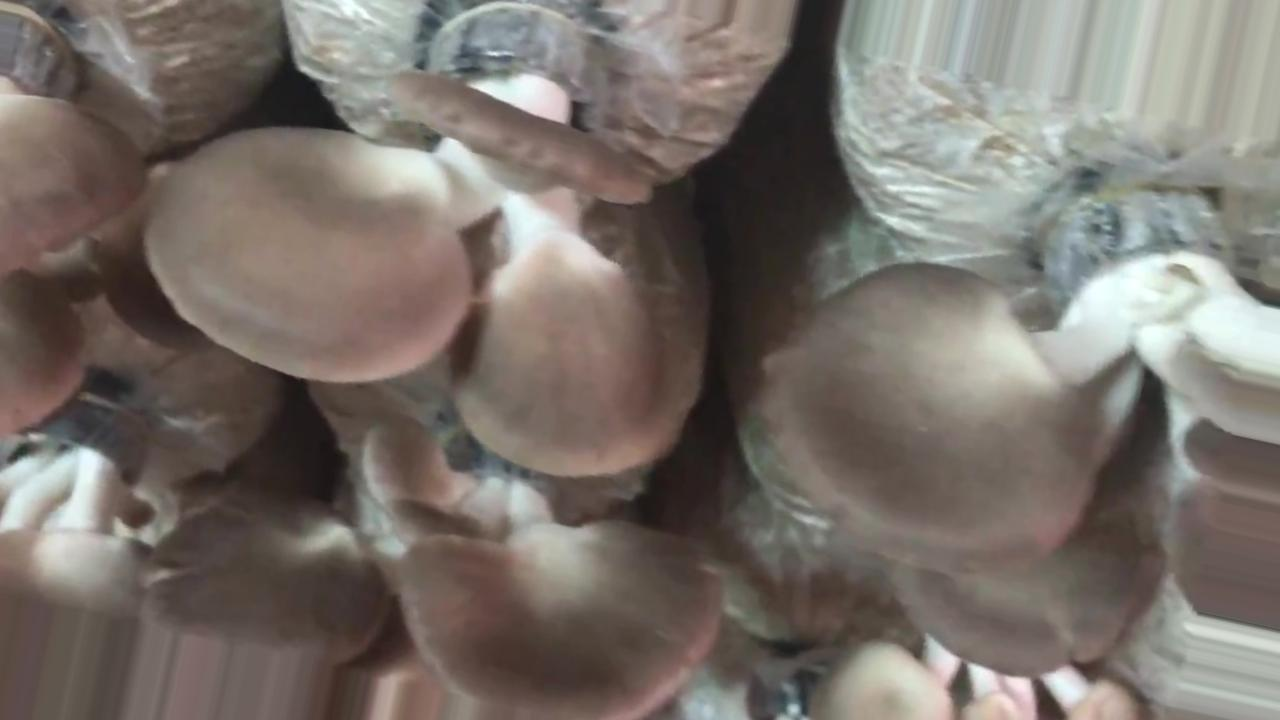nam: (149, 1, 699, 477), (764, 175, 1280, 676), (156, 443, 721, 720)
